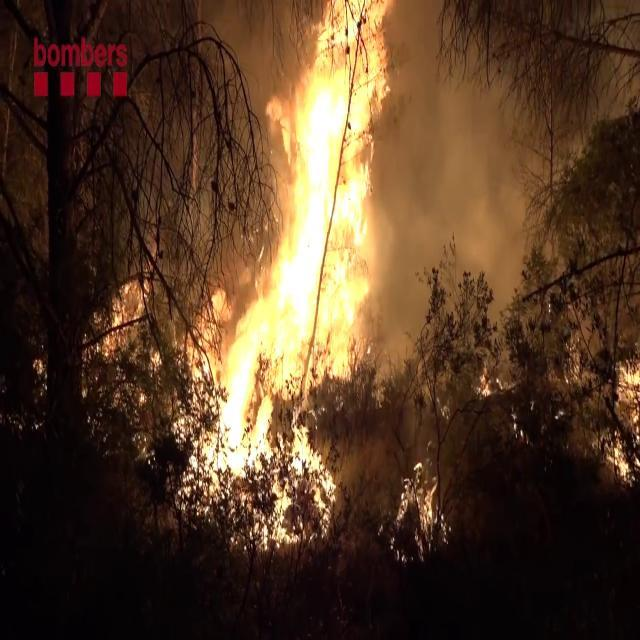Fire: (190, 2, 395, 512)
Smoke: (374, 2, 564, 364)
